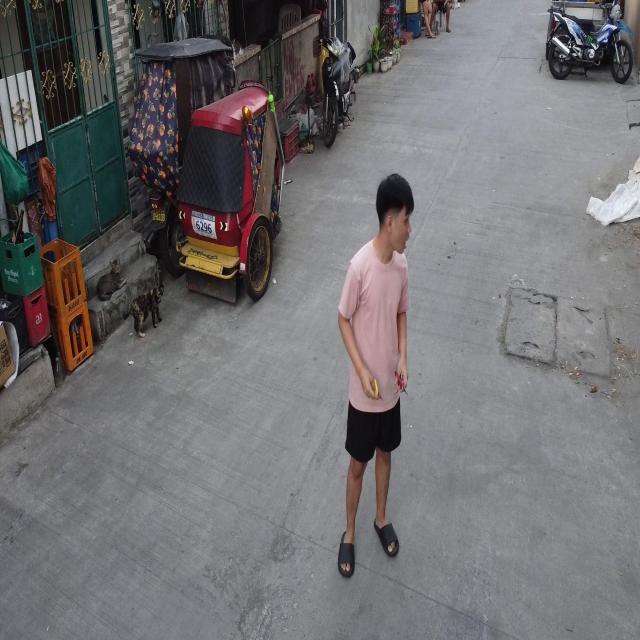scissor: (395, 371, 408, 396), (372, 378, 383, 402)
